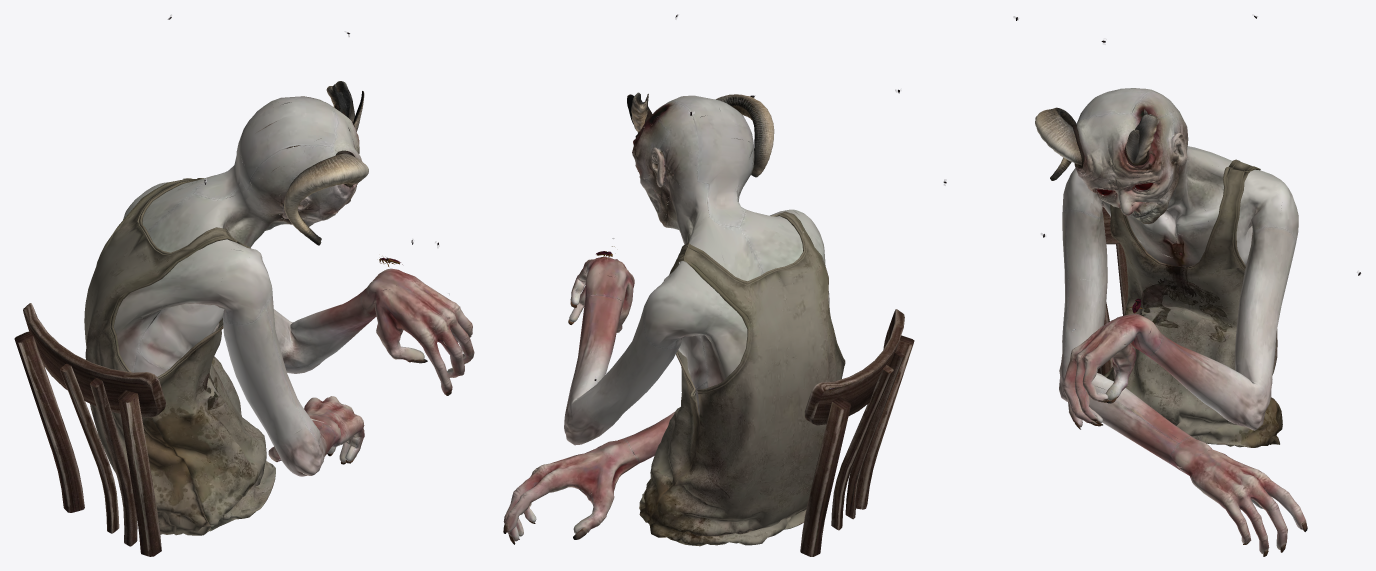
File: sad_old_demon_compressed.glb
3 views of the same model, side by side, from view 1: azimuth 30°, elevation 25°; view 2: azimuth 150°, elevation 25°; view 3: azimuth 270°, elevation 25° (orthographic). The views are drawn at different scales.
Parts seen in each view (by area): view 1: Object_16, Object_2, Object_37, Object_29; view 2: Object_16, Object_2, Object_37, Object_29; view 3: Object_16, Object_2, Object_29, Object_37.
Boxes of the visible parts, x1,y1,x2,y2 form: Object_16: (113,96,474,476); Object_2: (84,178,275,535); Object_37: (14,303,165,556); Object_29: (284,81,368,245); Object_16: (503,95,830,541); Object_2: (639,211,845,546); Object_37: (800,309,914,556); Object_29: (627,92,774,177); Object_16: (1059,88,1306,553); Object_2: (1103,159,1282,447); Object_29: (1035,107,1159,180); Object_37: (1097,206,1128,375).
Bounding box in the file's own units: 3.18 × 4.18 × 3.3.
10 materials, 10 textured.
